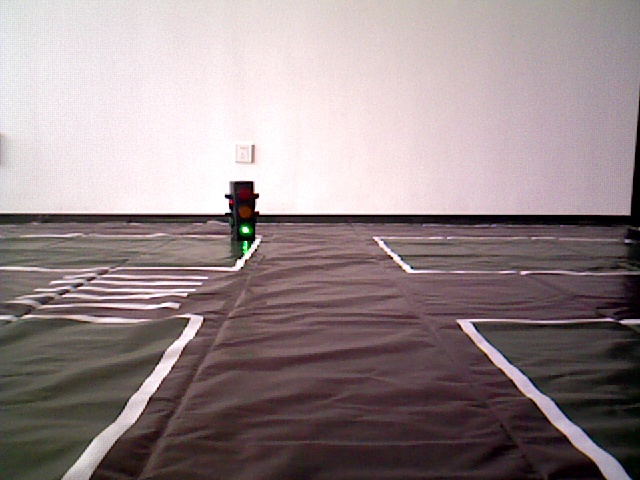green: (231, 183, 257, 238)
